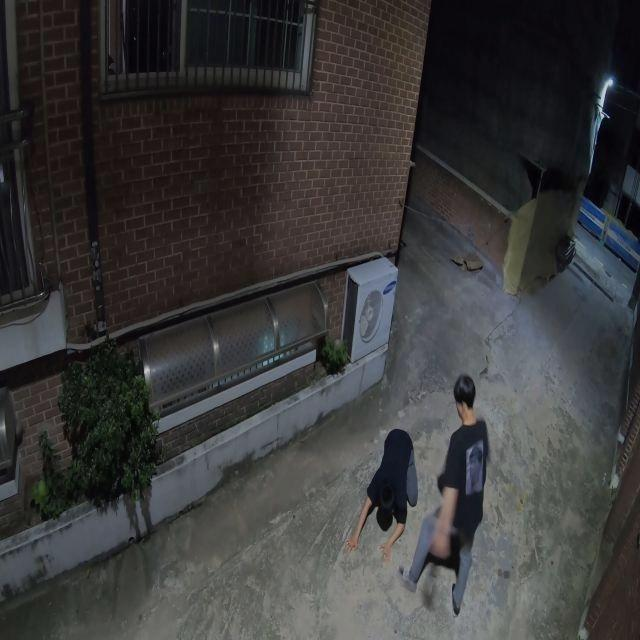non-fight: (394, 372, 492, 616), (346, 428, 422, 558)
